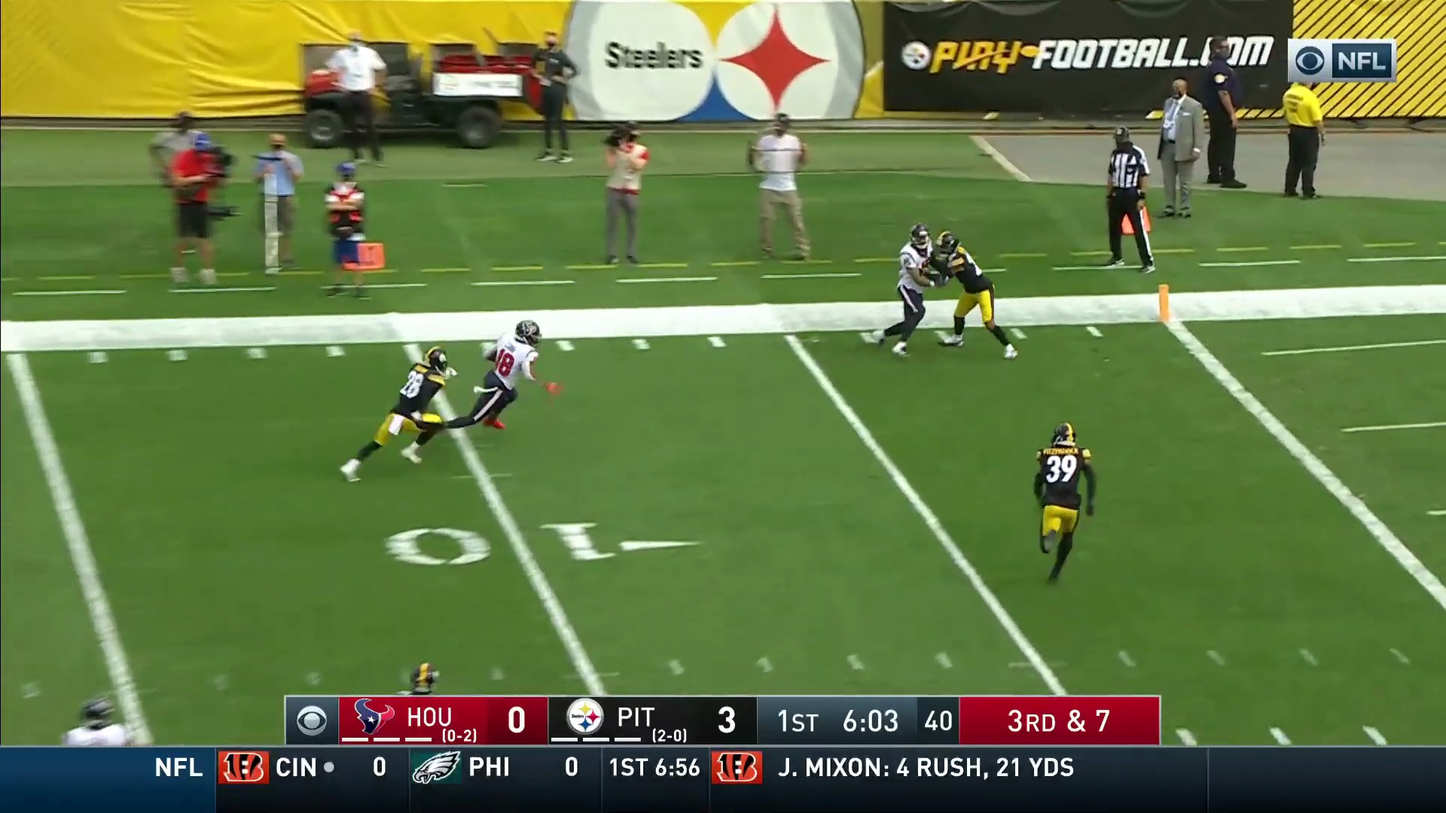Player: (159, 128, 224, 285), (1034, 422, 1095, 556), (471, 320, 539, 428)
